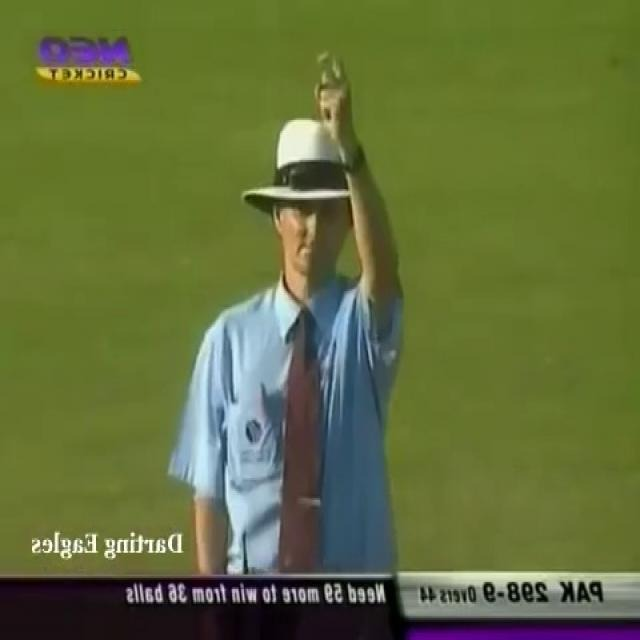Out: (174, 41, 408, 579)
